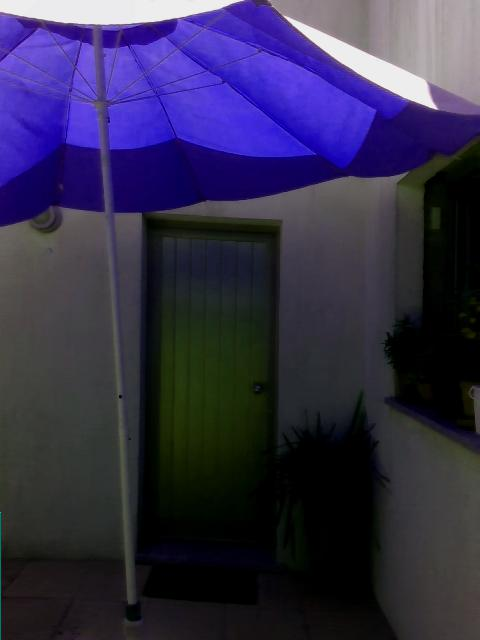closed_door: (139, 207, 278, 548)
